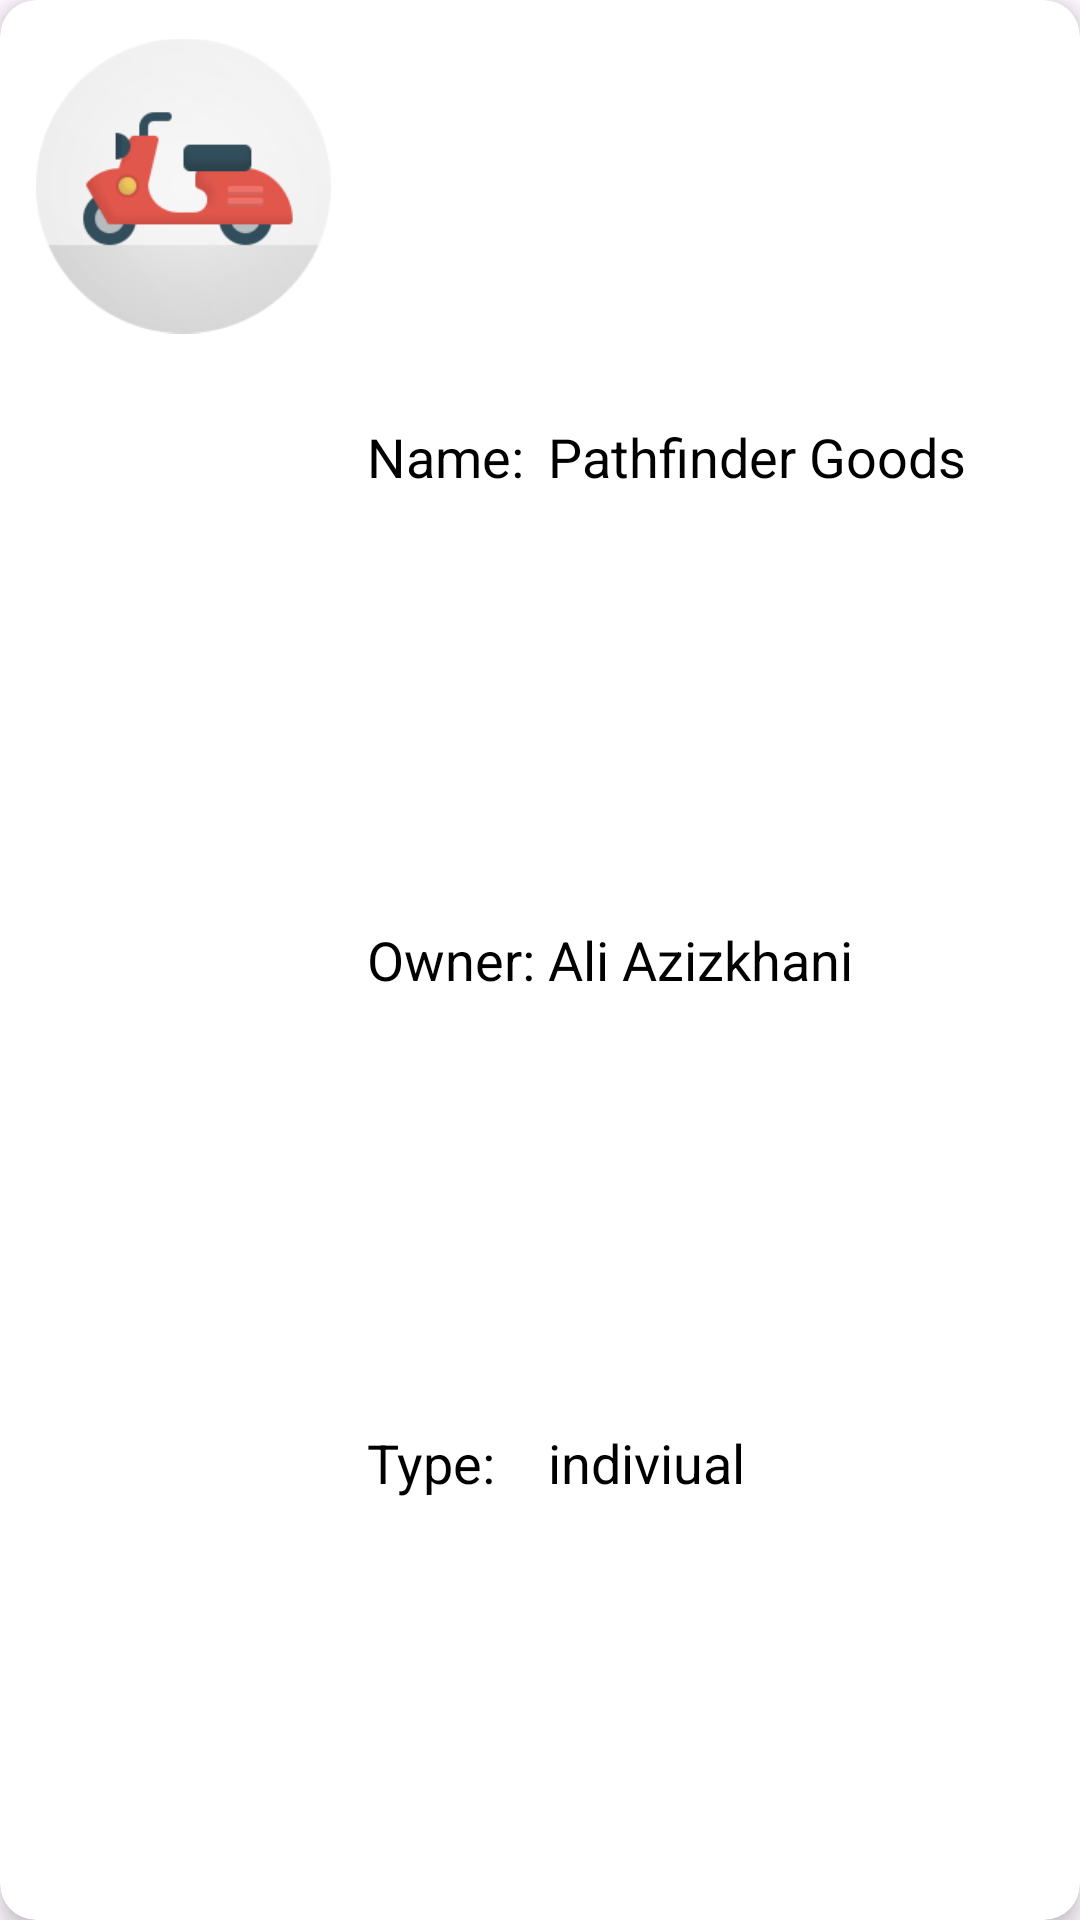

Screen size 1080*1920. Icon name, then its box in pixels as Rect(x1, y1, x2, y2):
motorcycling: Rect(49, 112, 318, 334)
